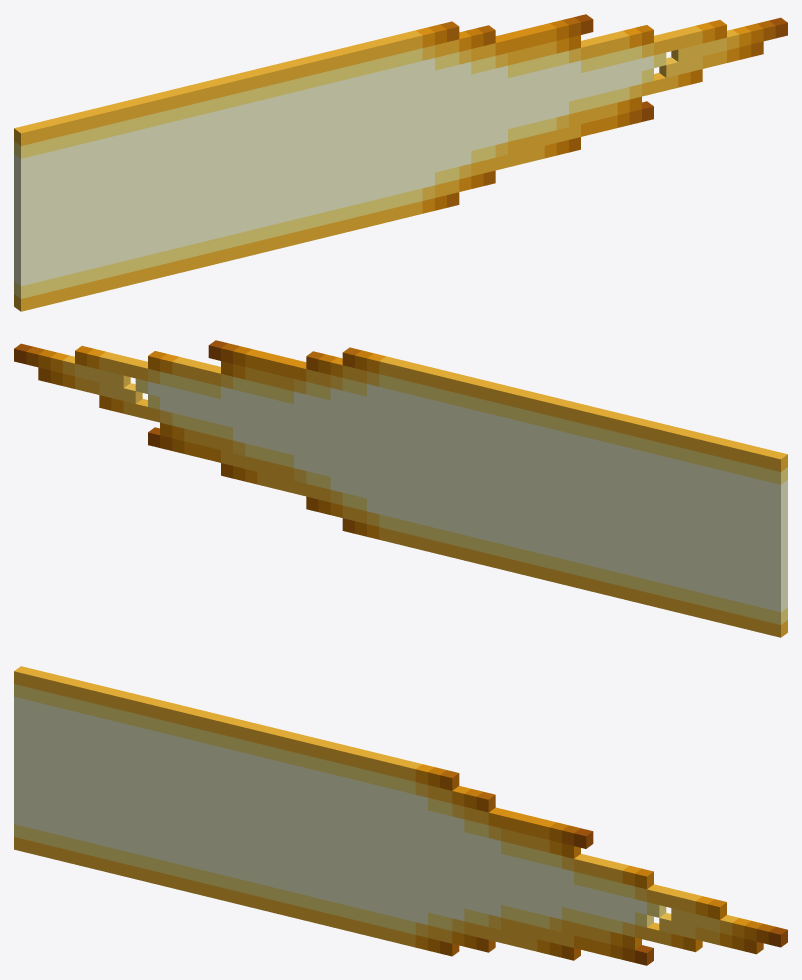
File: Fight_717_2_14_fx.obj
3 renders of one model, top to bottom at view 1: azimuth 30°, elevation 25°; view 2: azimuth 150°, elevation 25°; view 3: azimuth 330°, elevation 25°, orthographic.
Size of the model in its own units: 6.3 by 1.4 by 0.1.
Materials: 1 (1 with a texture image).
